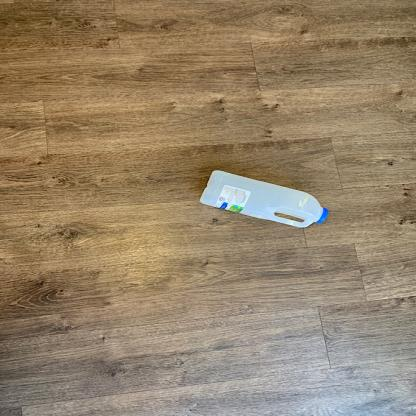trash: (199, 168, 336, 232)
